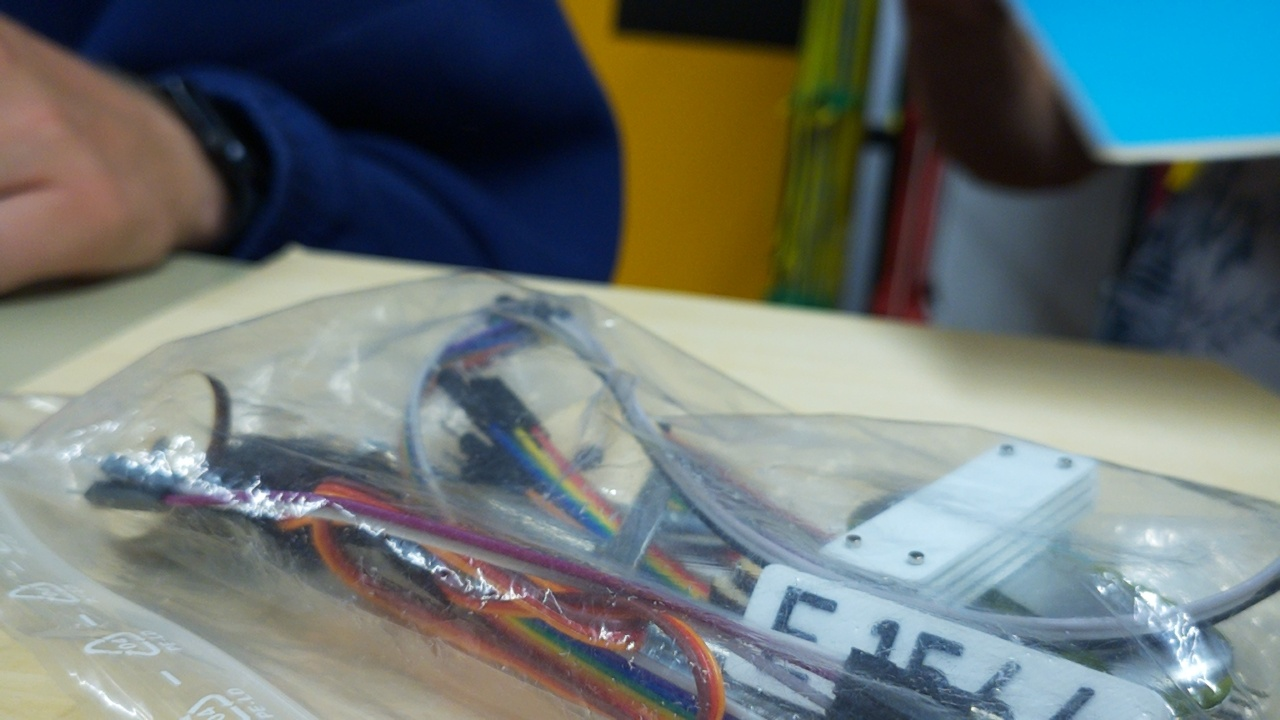license_plate: (728, 552, 1179, 720)
